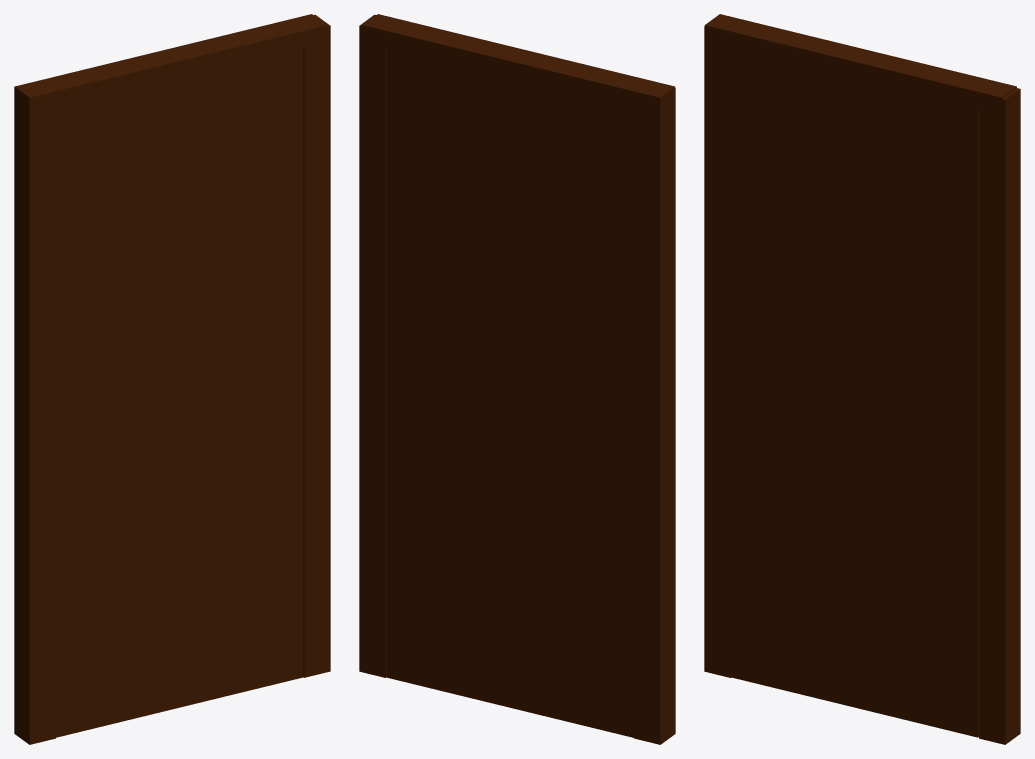
Rendered from Doorset.fbx.
3 renders of one model, left to right at view 1: azimuth 30°, elevation 25°; view 2: azimuth 150°, elevation 25°; view 3: azimuth 330°, elevation 25°, orthographic.
Parts seen in each view (by area): view 1: Door, Doorframe; view 2: Door, Doorframe; view 3: Door, Doorframe.
Part boxes in pixels (x1=…): Door: x1=56, y1=49, x2=303, y2=737; Doorframe: x1=14, y1=14, x2=330, y2=744; Door: x1=386, y1=49, x2=636, y2=738; Doorframe: x1=359, y1=14, x2=675, y2=744; Door: x1=731, y1=50, x2=978, y2=737; Doorframe: x1=704, y1=14, x2=1020, y2=744.
Size of the model in its own units: 683 by 1403 by 60.36.
